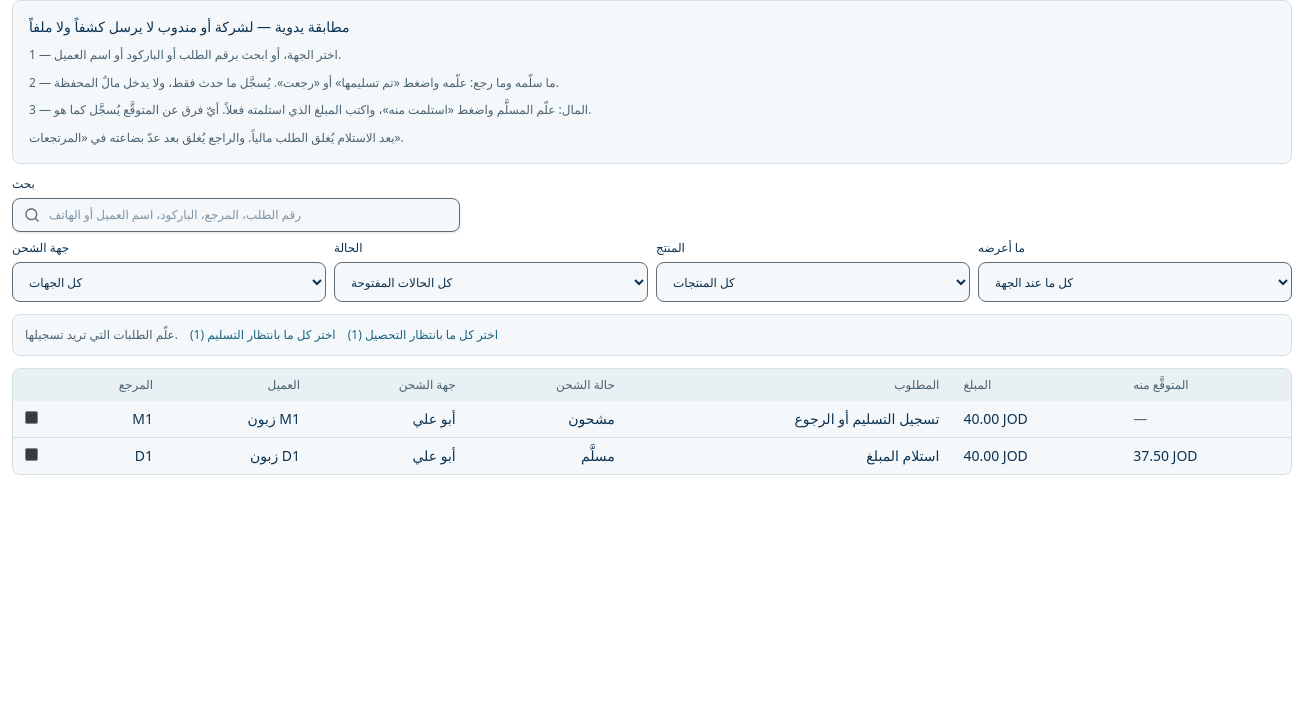
what the ticked parcels ask for › a delivery and a collection in one choice is said in words, and no action button is drawn
Expected: the dropdown labelled "جهة الشحن" is shown, 12,262 -> 326,302
Expected: the row "M1 زبون M1 أبو علي مشحون تسجيل التسليم أو الرجوع 40.00 JOD —" is shown, 13,401 -> 1291,438
Click the checkbox named "اختر السجل" in the row of "زبون M1" at (32, 418), box 25,411 -> 38,424
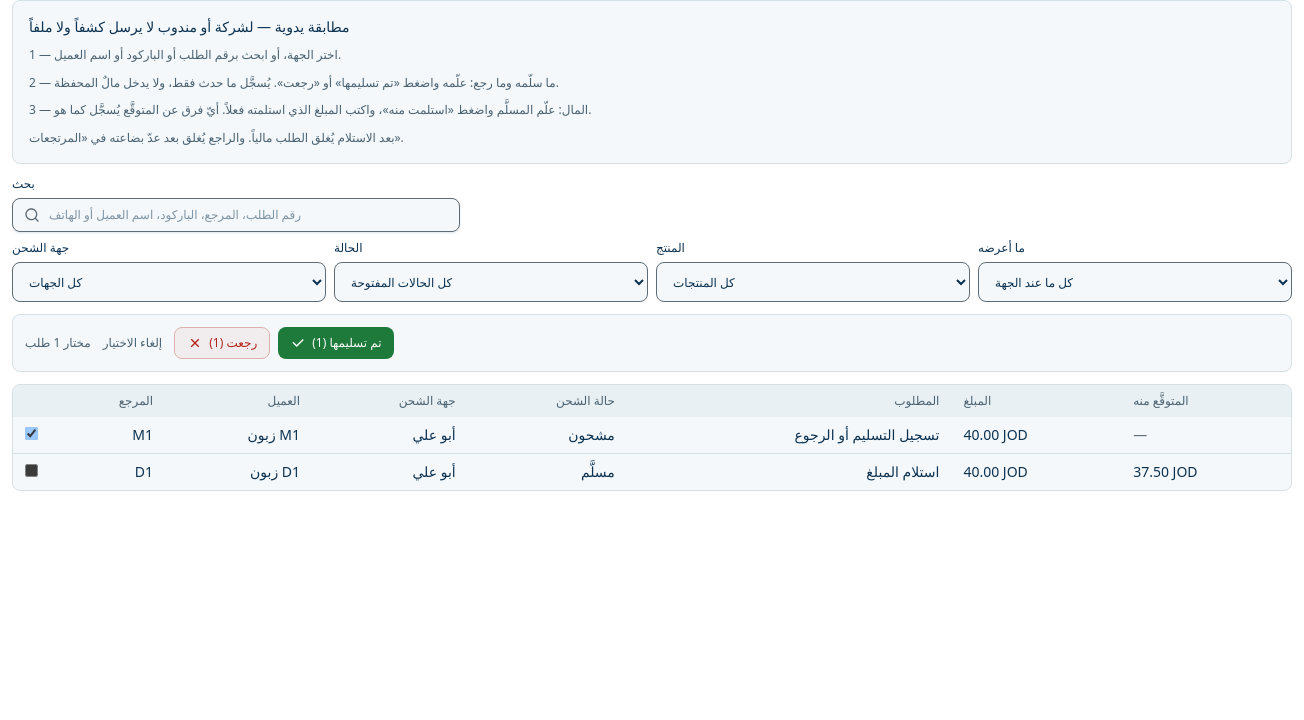
Click the checkbox named "اختر السجل" at (32, 470), box 25,464 -> 38,477
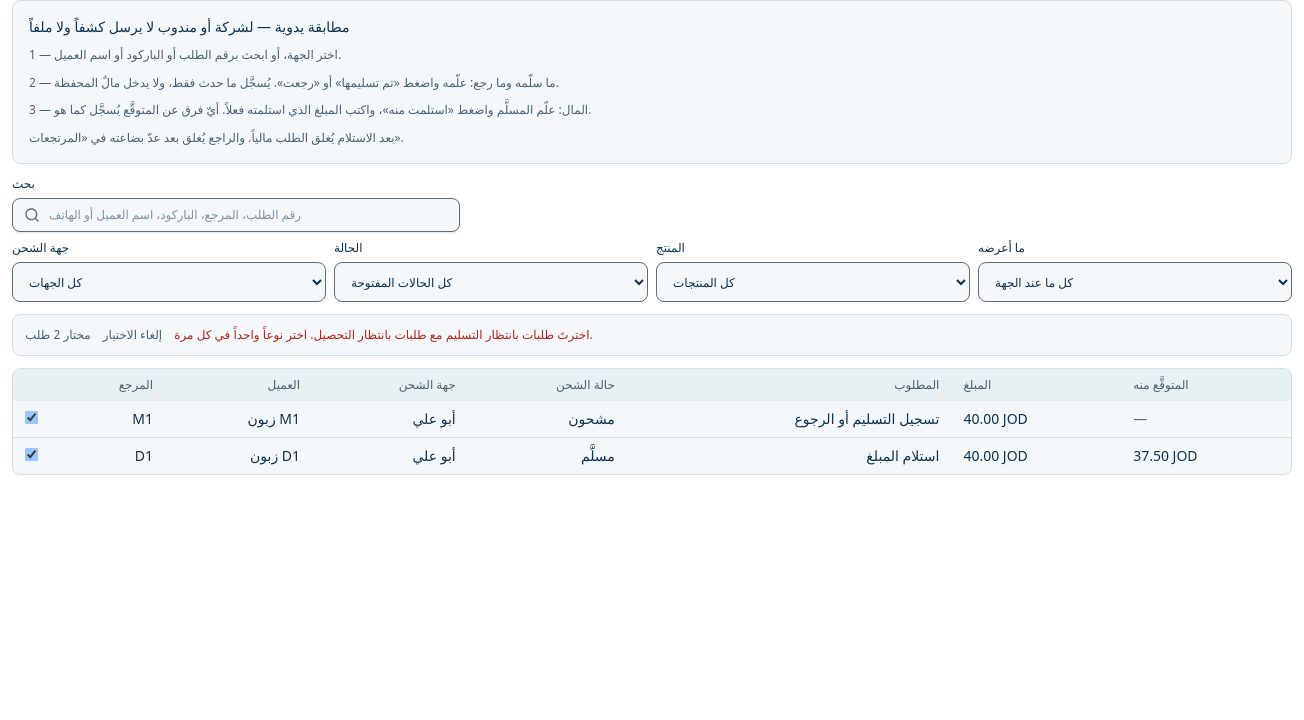
Result: the text "اختر نوعاً واحداً في كل مرة" is shown at 174,326 -> 593,343
Result: the button "رجعت (" is gone
